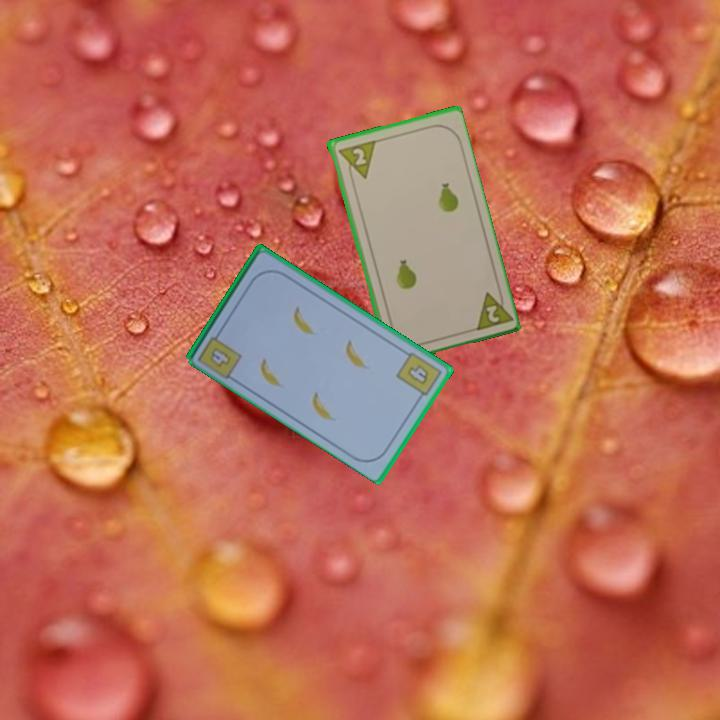2p: (470, 284, 514, 333), (334, 137, 377, 184)
4b: (393, 348, 445, 403), (207, 344, 234, 370)
